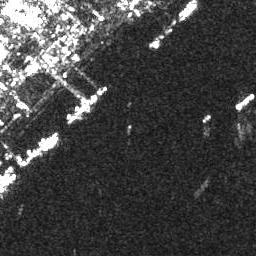ship: (235, 91, 254, 113), (178, 2, 197, 22), (39, 136, 60, 153)
